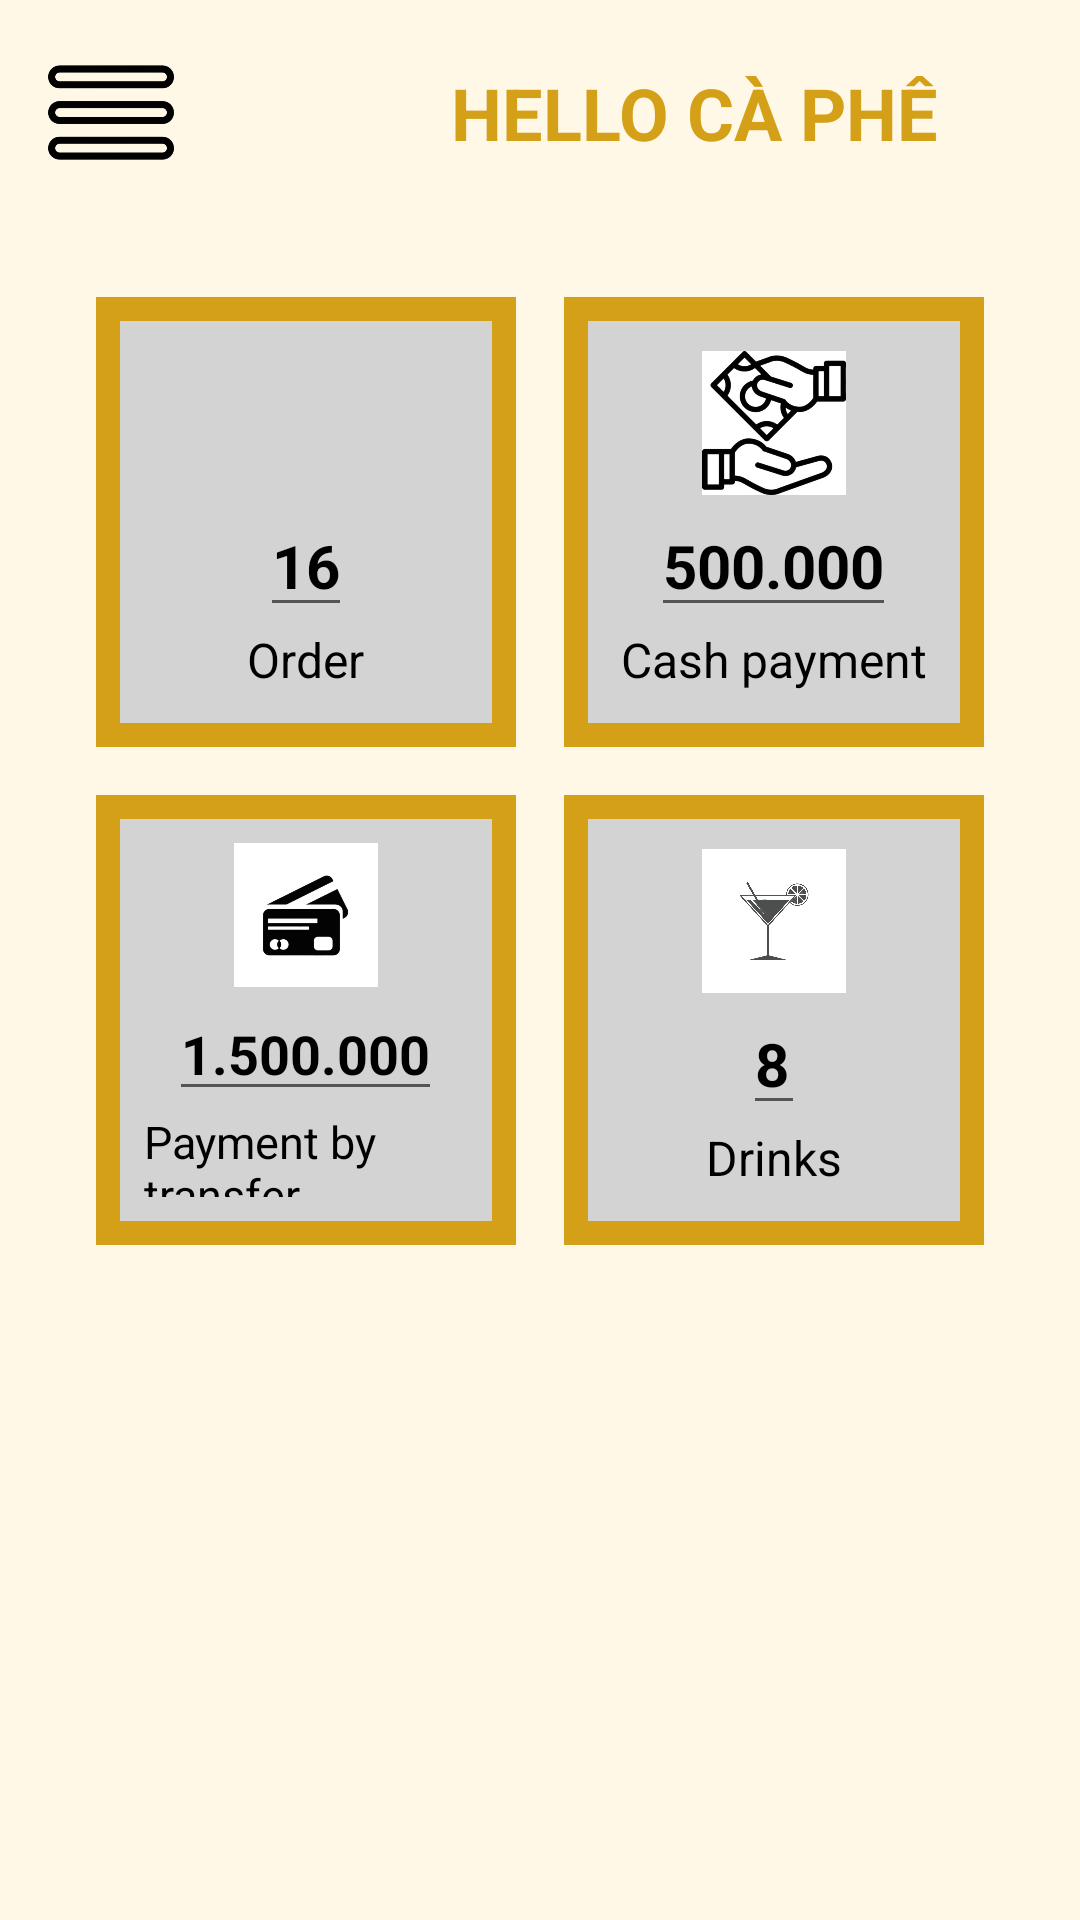

Named icons in this screenshot (1080 × 1920) and their centers, (x,y):
Menu Icon: (111,112)
